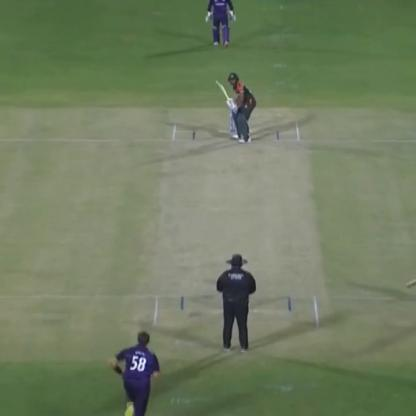bat: (209, 76, 234, 112)
pitch: (149, 125, 321, 333)
